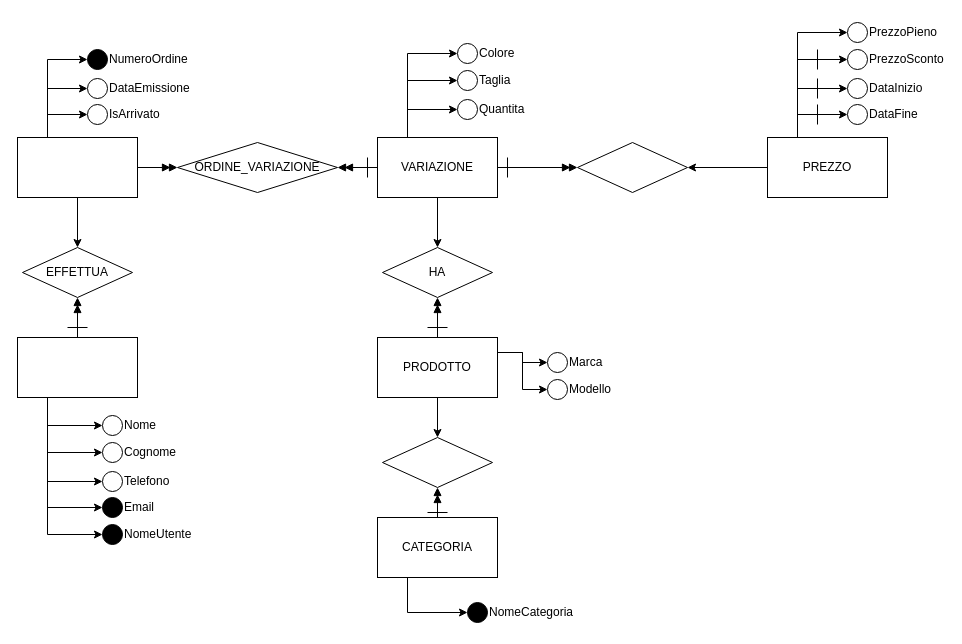
The diagram is 962 pixels wide and 644 high, and some of its shapes have lost their labels. Here are the shapes that lost their labels. From the top down, the box of each, then its label:
(16, 136, 138, 198): ORDINE
(576, 142, 688, 192): CONTIENE
(16, 336, 138, 398): UTENTE
(382, 436, 492, 488): APPARTIENE
